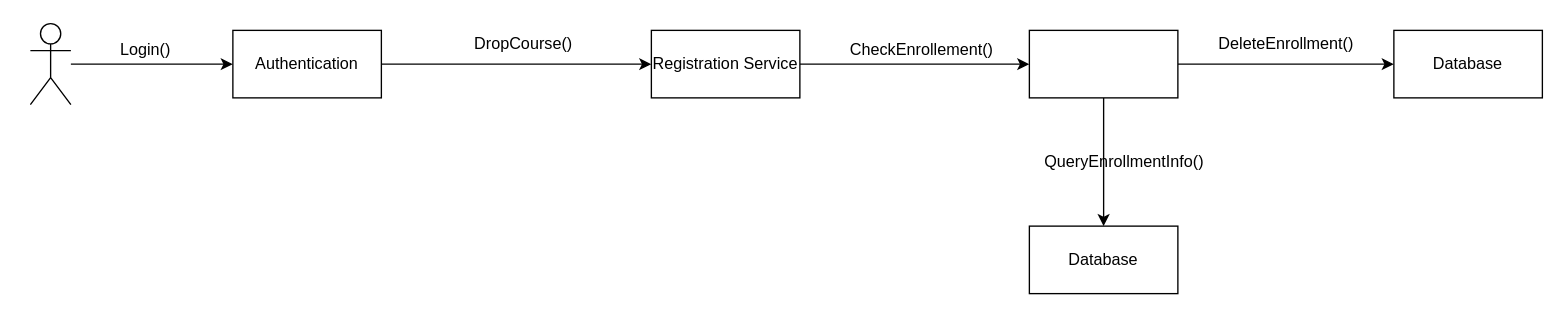
Image size: 1566x317. Some labels were removed from this diagram. The centre of each missing label's shape, as x and y in pixels:
"Enrollment Chekcer" belongs at pixel 1103 63.
"Student" belongs at pixel 50 63.
